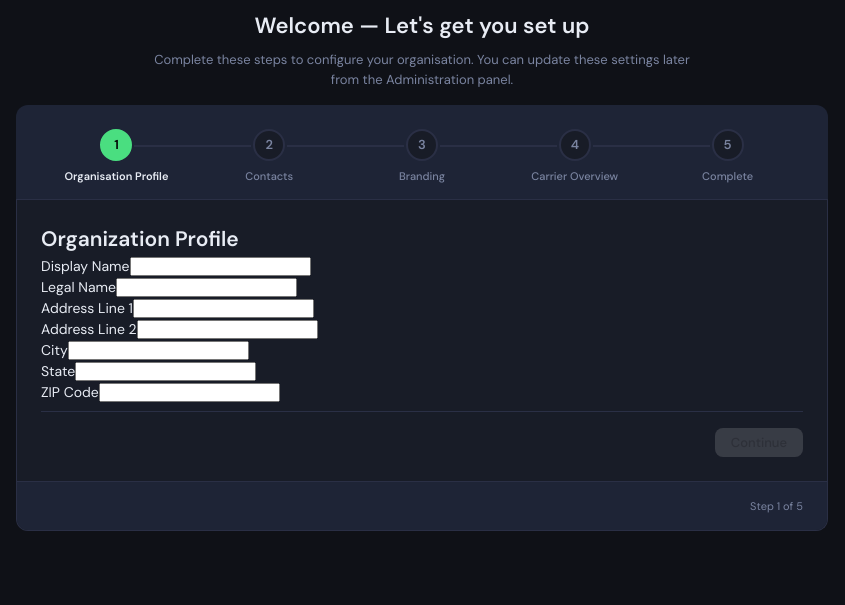
OnboardingWizard › step 3: invalid brand_color shows inline error
Type "Corp" into the field labelled "Display Name".
click(220, 266); type("Corp")  # box [130,257,310,276]
Type "Corp LLC" into the field labelled "Legal Name".
click(206, 287); type("Corp LLC")  # box [116,278,297,297]
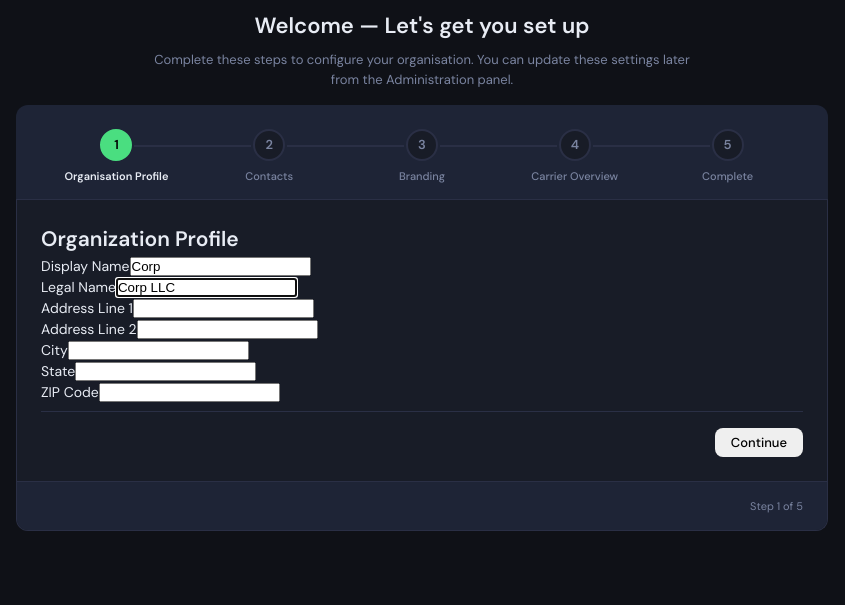
Click the button "Continue".
click(759, 442)  # box [715,428,803,457]
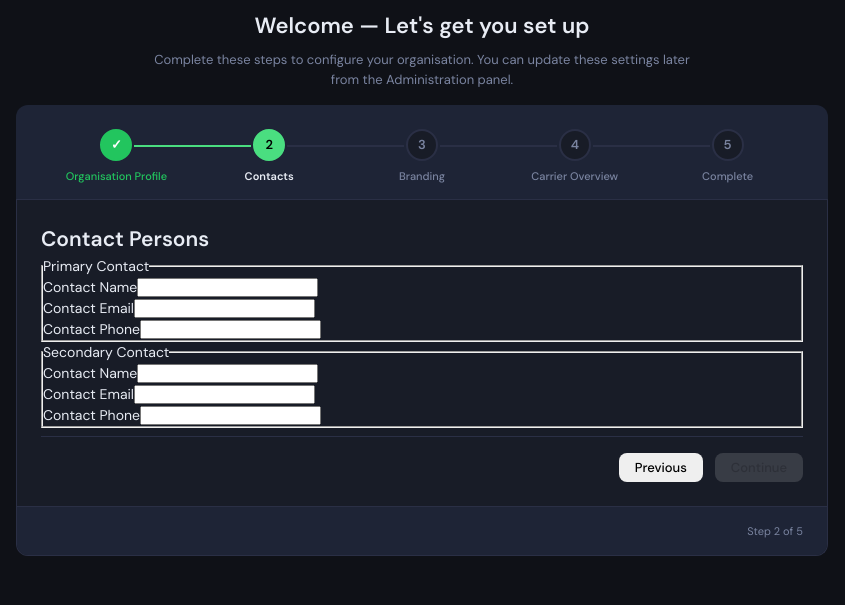
Expected: the text "Primary Contact" is shown, [43,256,149,277]
Type "Carol" into the field labelled "Contact Name" below "Primary Contact".
click(228, 287); type("Carol")  # box [137,278,318,297]
Type "carol@corp.com" into the field labelled "Contact Email" below "Primary Contact".
click(224, 308); type("carol@corp.com")  # box [134,299,315,318]
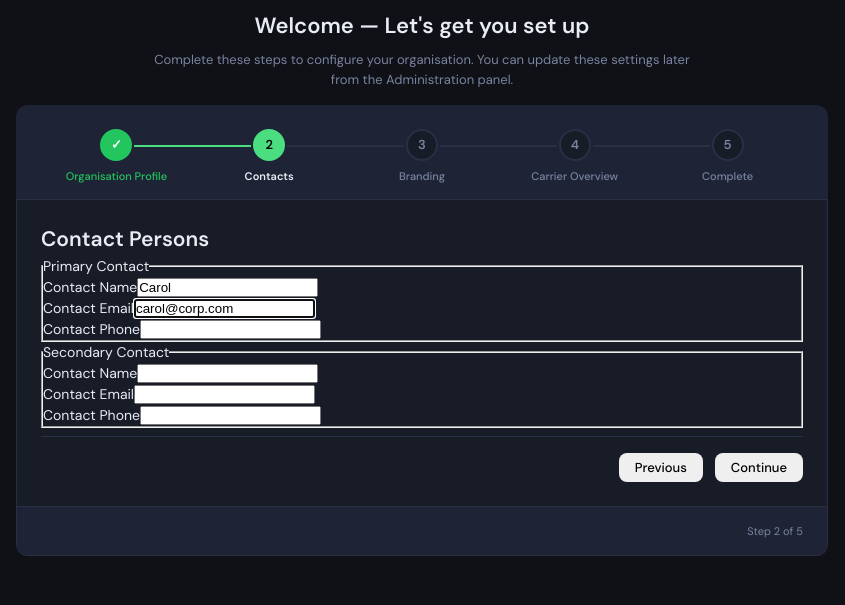
Click the button "Continue".
click(759, 467)  # box [715,453,803,482]
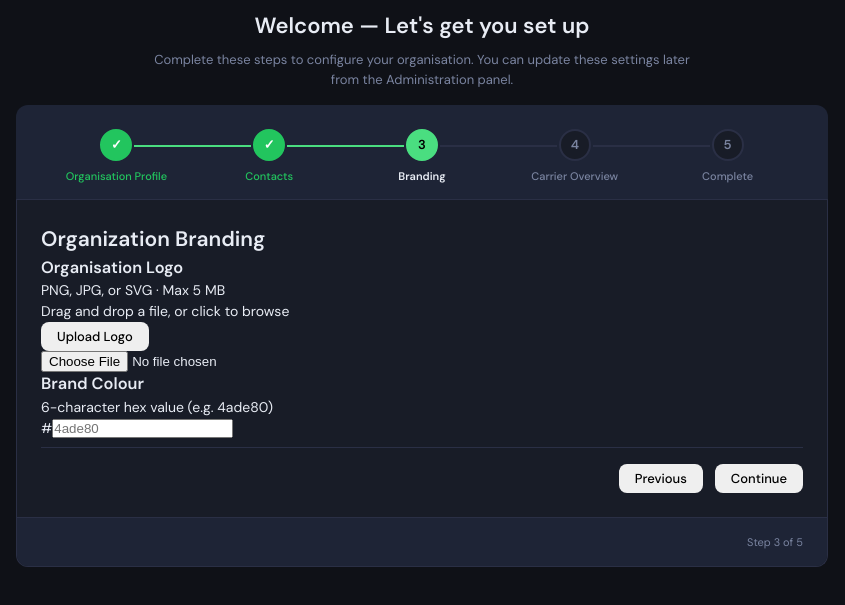
Expected: the field named "Brand Colour" is shown
Type "xyz" into the field named "Brand Colour".
click(143, 428); type("xyz")  # box [52,419,233,438]
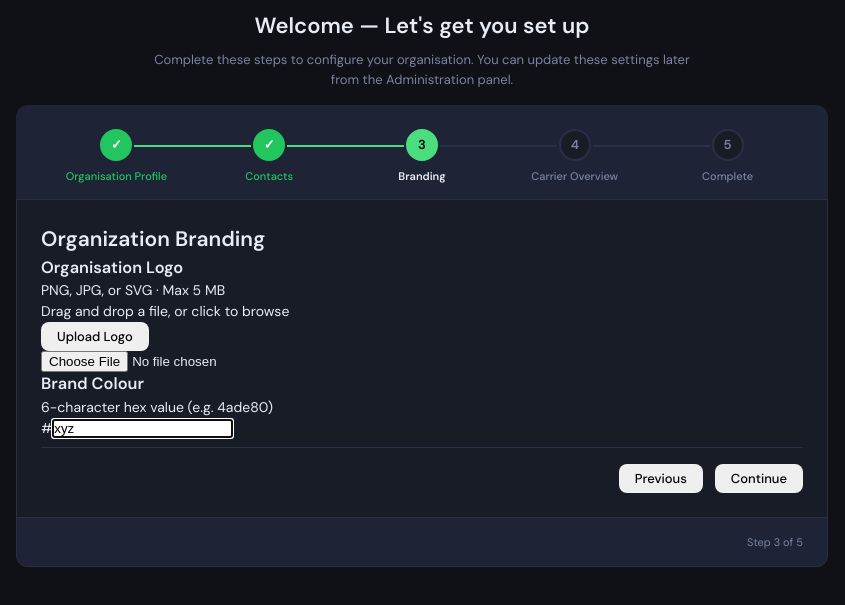
Click the button "Continue".
click(759, 478)  # box [715,464,803,493]
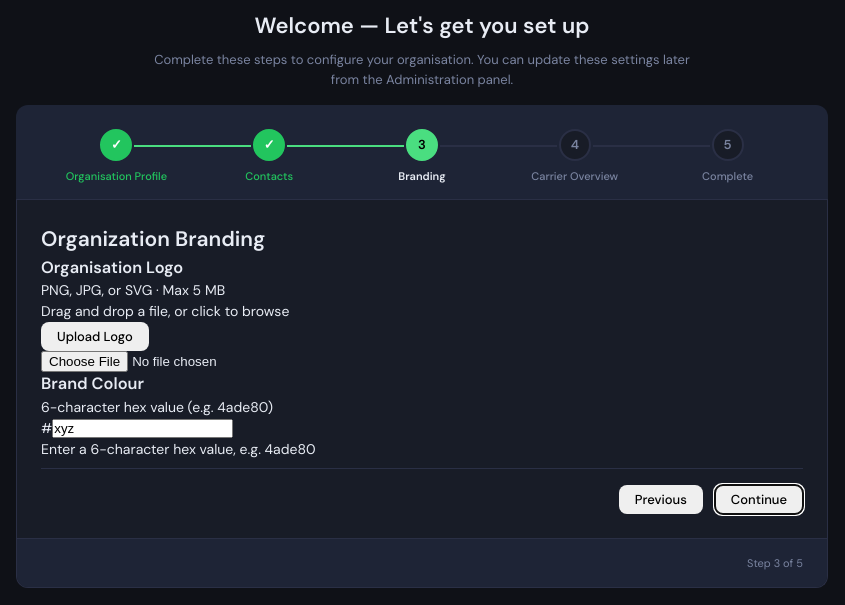
Expected: the message "Enter a 6-character hex value, e.g. 4ade80" is shown, [41,440,316,458]
